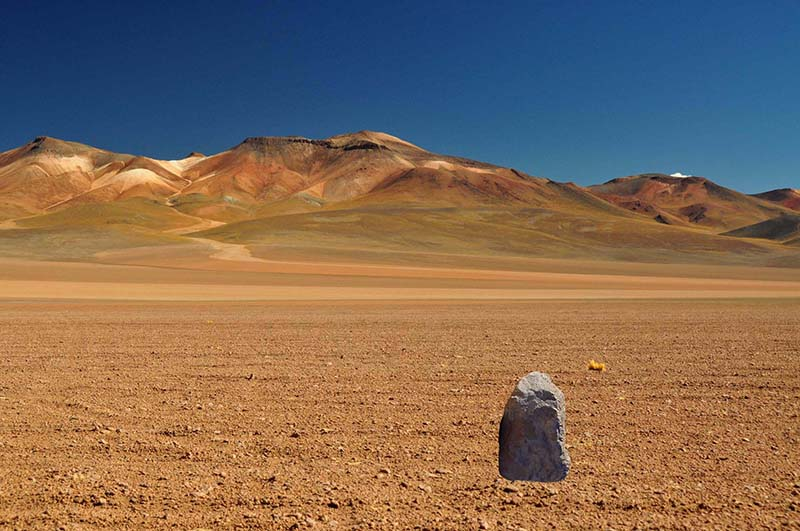Rocks: (490, 360, 573, 489)
